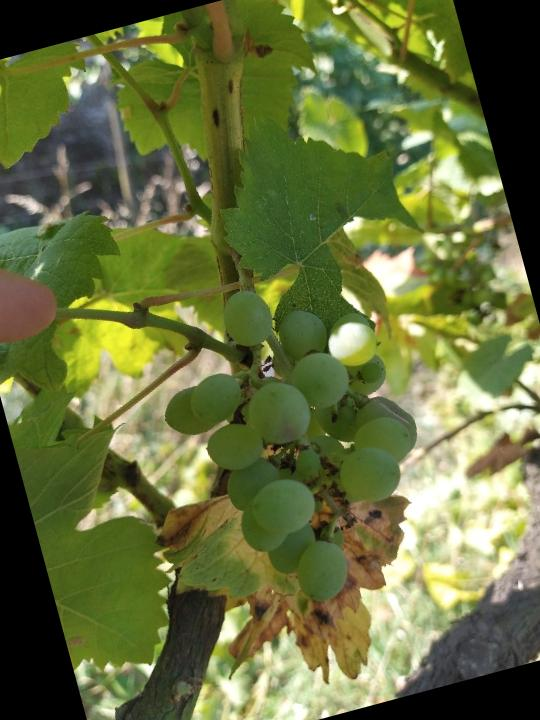grape: (134, 251, 459, 635)
